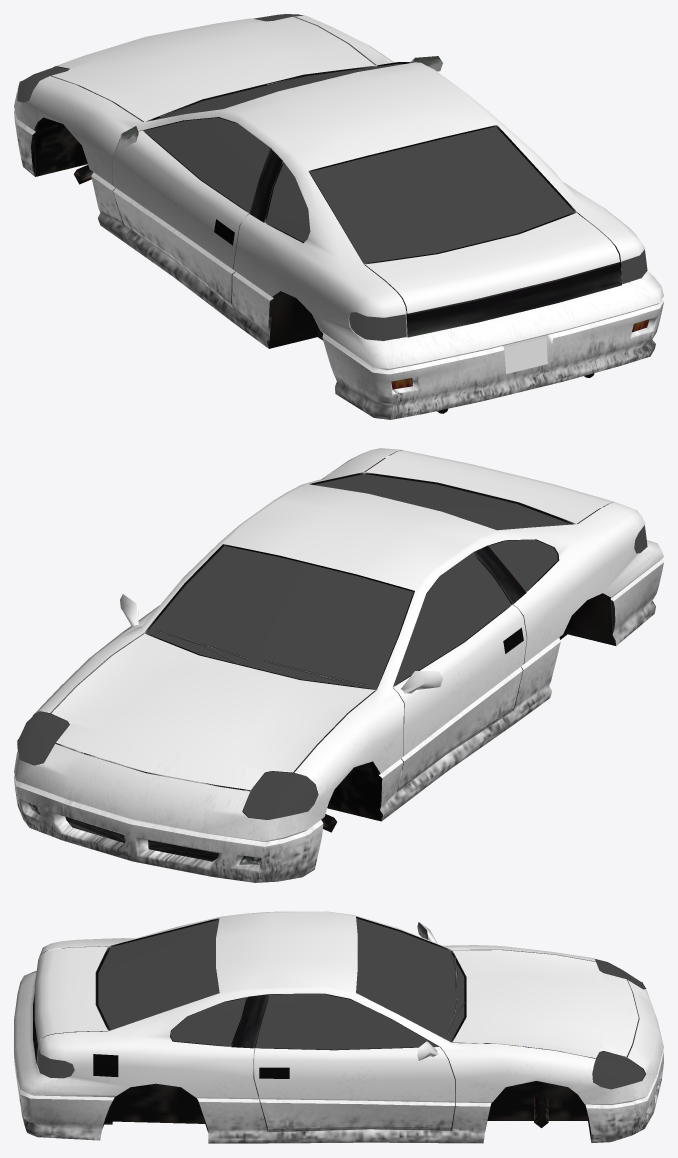
File: alpha.glb
3 renders of one model, top to bottom at view 1: azimuth 30°, elevation 25°; view 2: azimuth 150°, elevation 25°; view 3: azimuth 270°, elevation 25°, orthographic. The views are drawn at different scales.
Parts seen in each view (by area): view 1: chassis, door_lf_ok, bonnet_ok, bump_rear_ok, boot_ok, windscreen_ok, bump_front_ok; view 2: chassis, bonnet_ok, windscreen_ok, door_lf_ok, bump_front_ok, boot_ok, bump_rear_ok; view 3: chassis, door_rf_ok, bonnet_ok, windscreen_ok, boot_ok, bump_rear_ok, bump_front_ok.
Boxes of the visible parts, x1,y1,x2,y2 form: chassis: (14,14,663,413); door_lf_ok: (113,118,270,307); bonnet_ok: (52,16,374,121); bump_rear_ok: (322,300,663,419); boot_ok: (365,213,619,313); windscreen_ok: (155,63,403,119); bump_front_ok: (14,110,35,176); chassis: (14,448,663,861); bonnet_ok: (51,634,374,790); windscreen_ok: (146,546,413,689); door_lf_ok: (393,553,526,791); bump_front_ok: (14,775,323,882); boot_ok: (365,450,615,523); bump_rear_ok: (611,559,663,645); chassis: (14,911,663,1143); door_rf_ok: (254,993,454,1131); bonnet_ok: (452,950,638,1058); windscreen_ok: (356,918,464,1041); boot_ok: (34,946,107,1044); bump_rear_ok: (14,1053,114,1140); bump_front_ok: (585,1050,663,1142).
Size of the model in its own units: 2.46 by 1.31 by 5.26.
18 materials, 17 textured.
